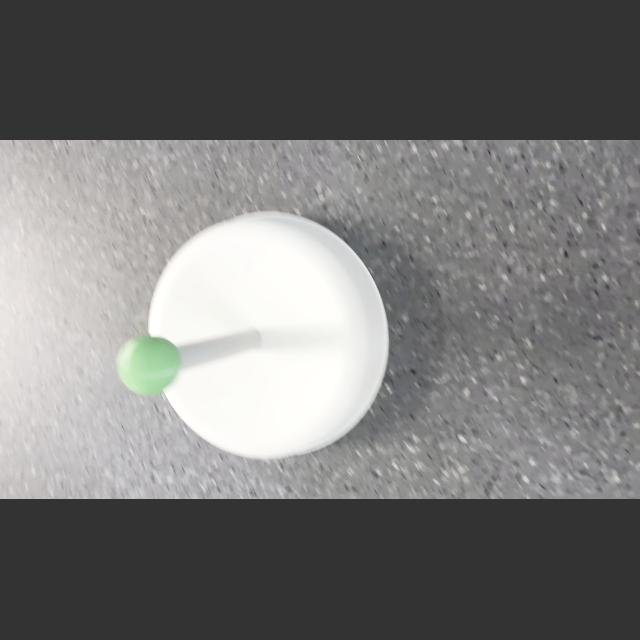objects: (110, 326, 184, 402)
